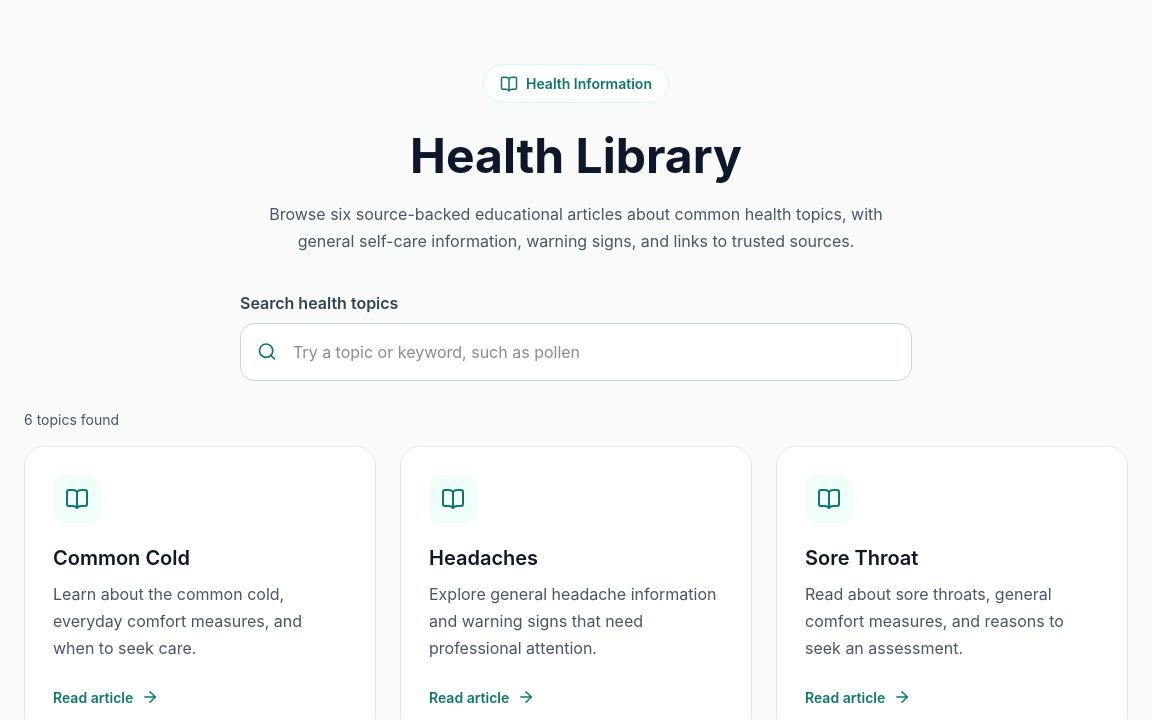
Health Library browsing › filters search pollen to Seasonal Allergies
Step 1. Type "pollen" into the search field labelled "Search health topics" → (592, 352), box [289,336,895,368]
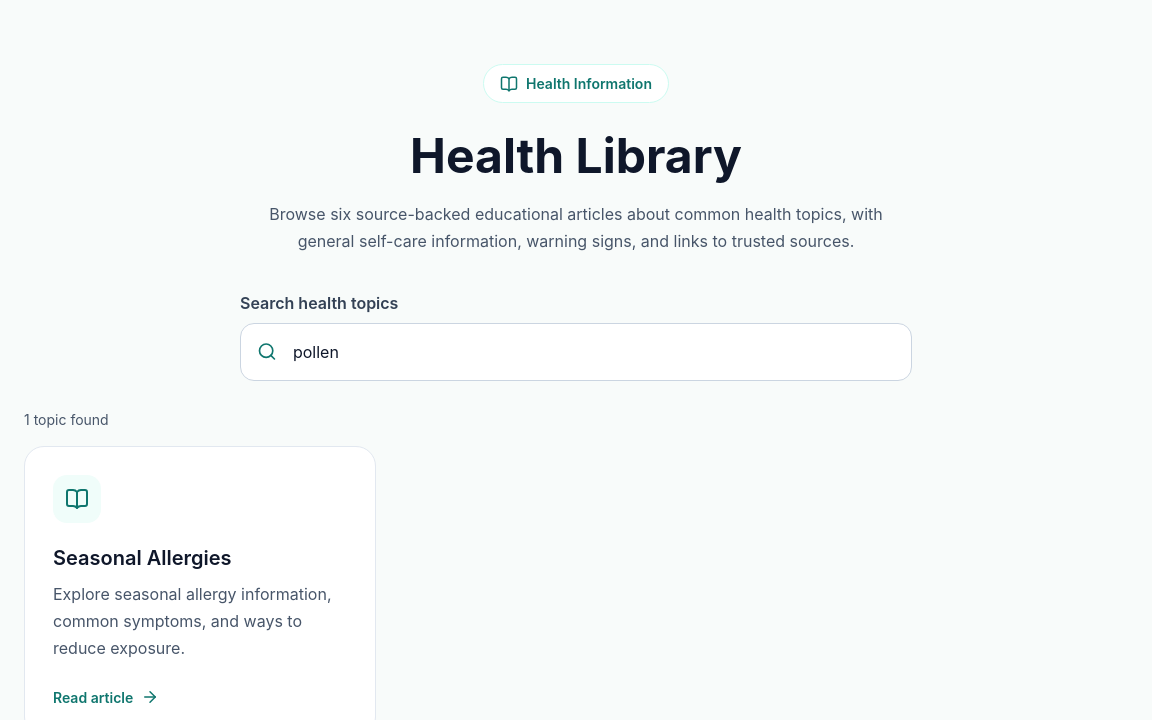
Expected: the heading "Seasonal Allergies" is shown, [53,546,232,570]
Result: the message reads "1 topic found" at [24,411,109,428]
